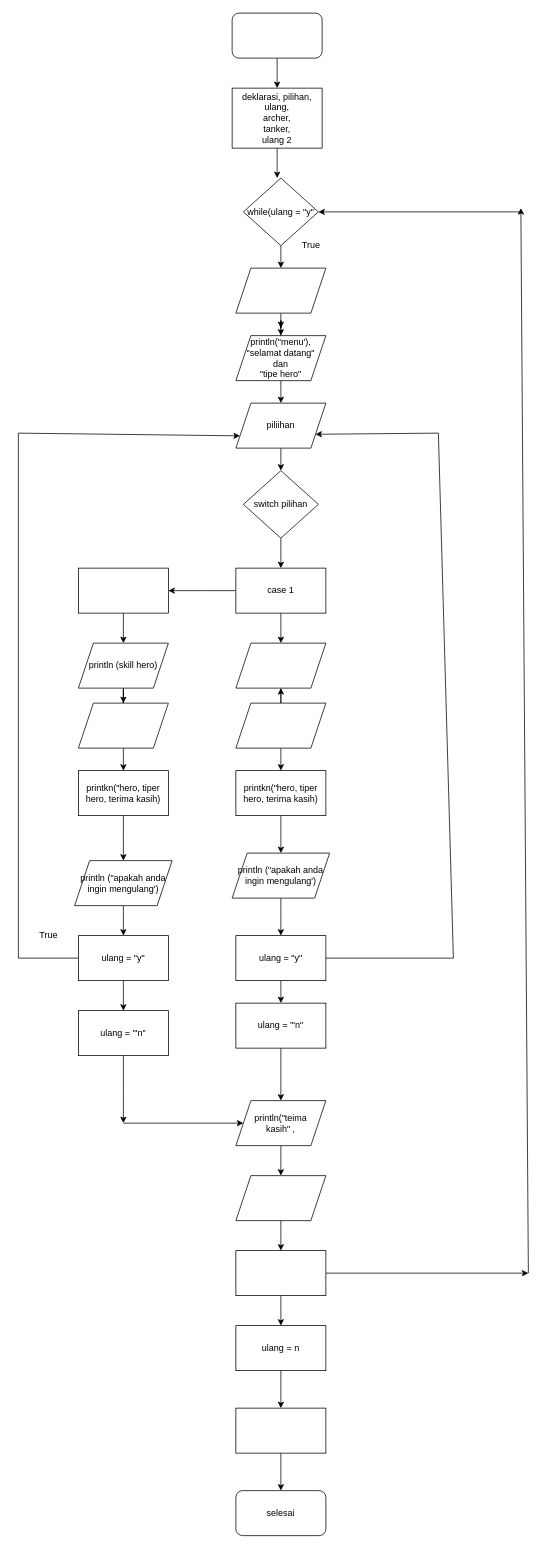
This 548x1549 diagram has some shape labels left out. The box of each missing label's shape, as (x1, y1, x2, y2) in pixels:
case 2: (78, 567, 168, 613)
fungsi pilihan 2: (78, 702, 168, 748)
fungsi pilihan1: (235, 702, 326, 748)
mulai: (231, 12, 322, 58)
print(apakah ingin mengulang): (235, 1175, 326, 1221)
println (skill hero,): (235, 642, 326, 688)
println("masukan nama"): (235, 267, 326, 313)
return: (235, 1407, 326, 1453)
ulang = y: (235, 1250, 326, 1296)
